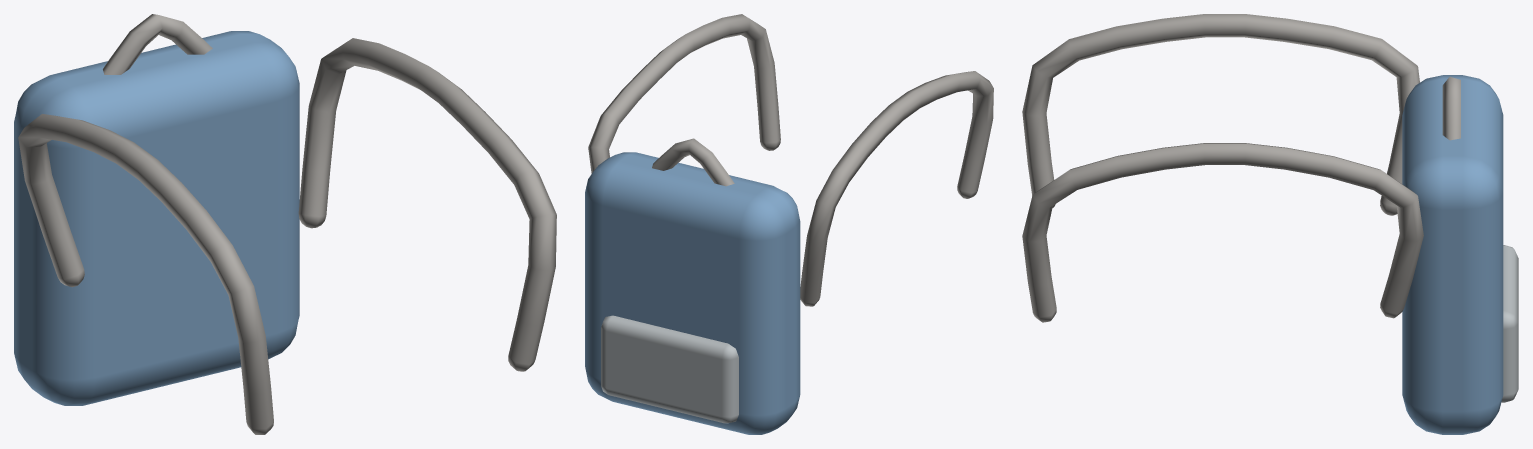
Rendered from dal_backpack.glb.
The picture shows the model from 3 angles, left to right: view 1: azimuth 30°, elevation 25°; view 2: azimuth 150°, elevation 25°; view 3: azimuth 270°, elevation 25°; orthographic projection. The views are drawn at different scales.
Parts seen in each view (by area): view 1: dal_backpack_Body; view 2: dal_backpack_Body; view 3: dal_backpack_Body.
Part boxes in pixels (x1,y1,x2,y2): dal_backpack_Body: [14, 14, 556, 434]; dal_backpack_Body: [585, 14, 993, 434]; dal_backpack_Body: [1022, 14, 1518, 434].
Size of the model in its own units: 0.327 by 0.3445 by 0.4902.
